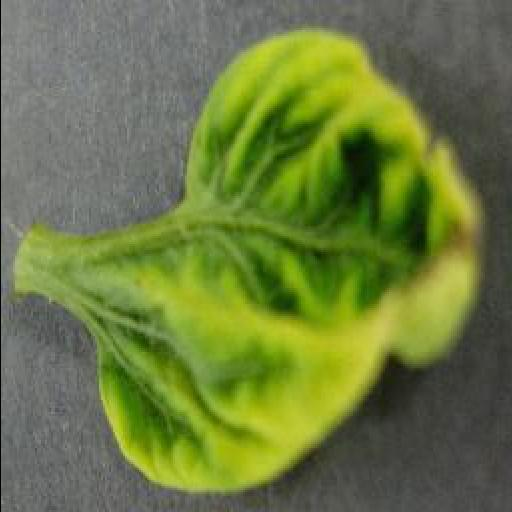disease_tomato: (94, 29, 484, 499)
